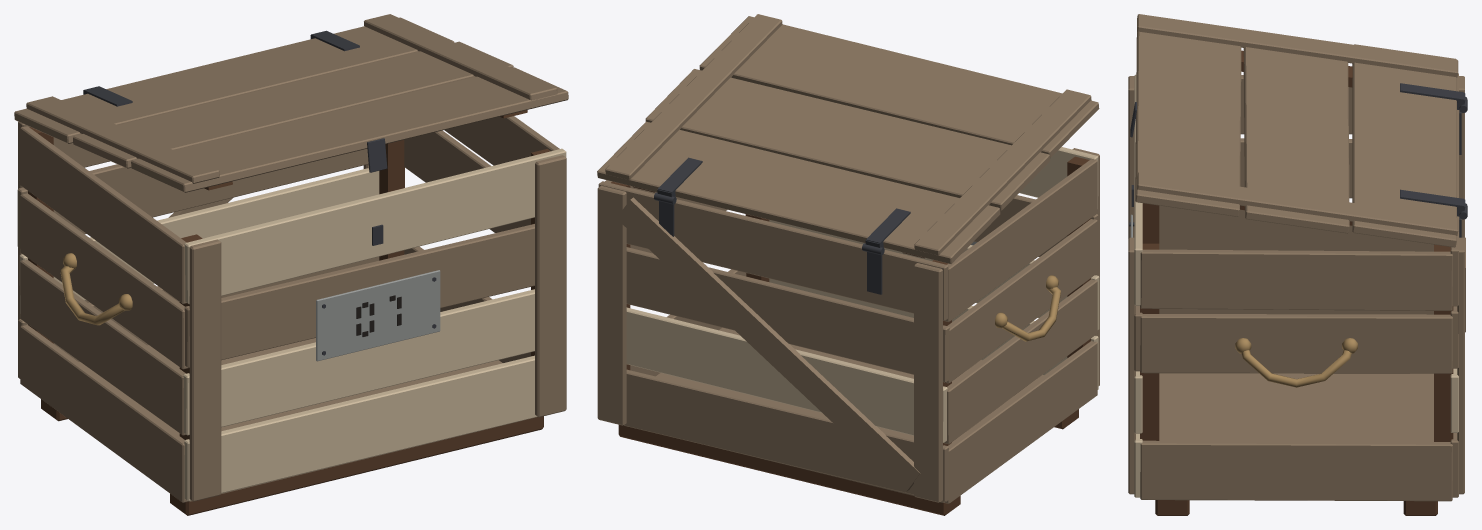
File: deco_crate_wood.fbx
The picture shows the model from 3 angles, left to right: view 1: azimuth 30°, elevation 25°; view 2: azimuth 150°, elevation 25°; view 3: azimuth 270°, elevation 25°; orthographic projection. The views are drawn at different scales.
Parts seen in each view (by area): view 1: Crate_Wood_Body, Crate_Wood_Lid; view 2: Crate_Wood_Body, Crate_Wood_Lid; view 3: Crate_Wood_Body, Crate_Wood_Lid.
Part boxes in pixels (bbox=[...]): Crate_Wood_Body: bbox=[17, 116, 566, 515]; Crate_Wood_Lid: bbox=[14, 14, 568, 192]; Crate_Wood_Body: bbox=[597, 147, 1099, 515]; Crate_Wood_Lid: bbox=[597, 14, 1099, 263]; Crate_Wood_Body: bbox=[1128, 73, 1465, 515]; Crate_Wood_Lid: bbox=[1130, 14, 1467, 247].
Size of the model in its own units: 124 by 96.5 by 88.89.
